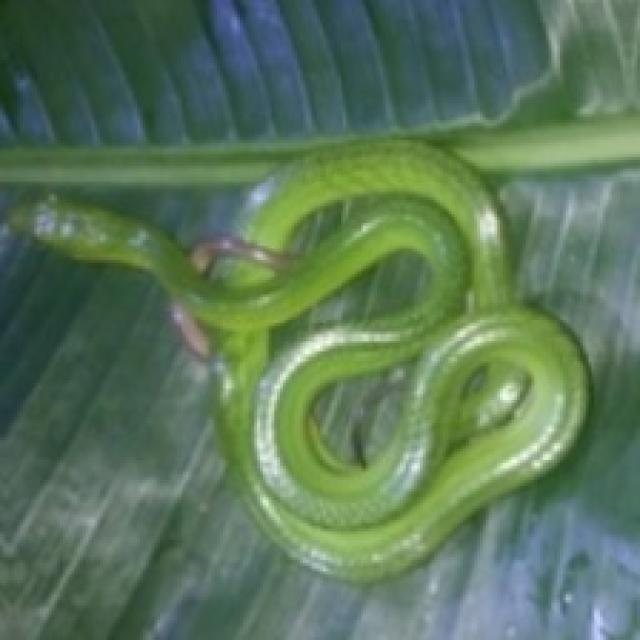red-tailed green ratsnake: (9, 140, 589, 580)
